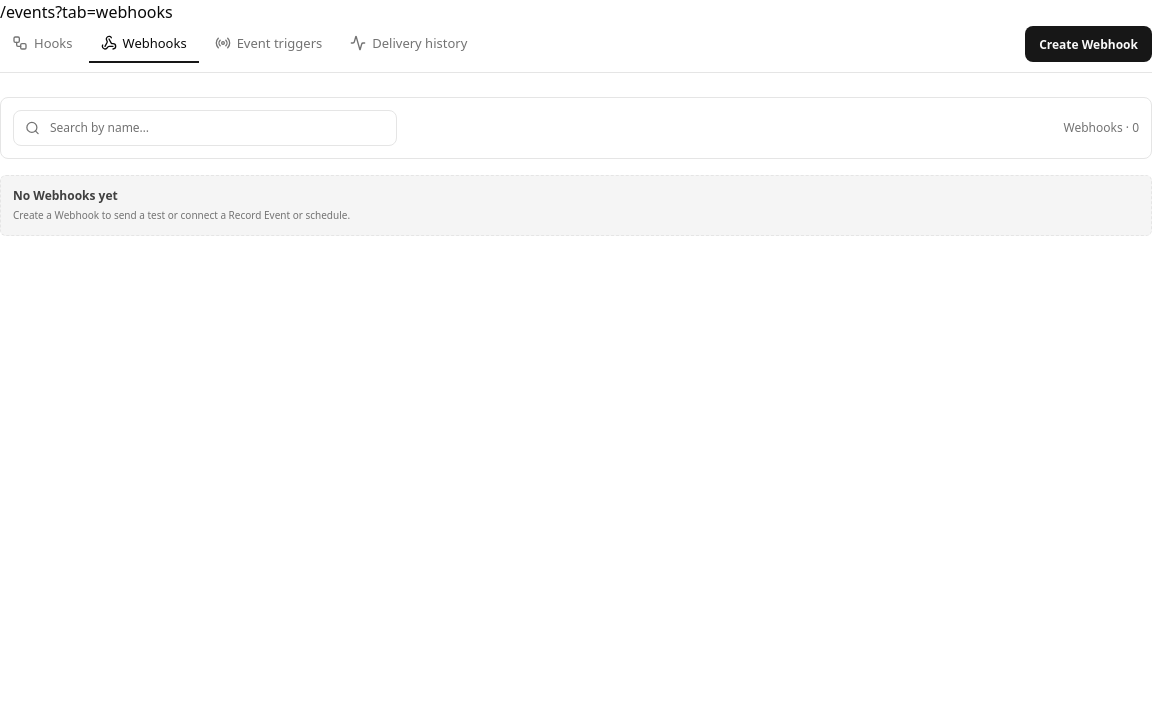
Test: Hooks & Events and Scheduled jobs Admin surfaces › shows field-level validation without displaying a raw URL or server message
Click the button "Create Webhook" at (1089, 44), box [1025,26,1151,62]
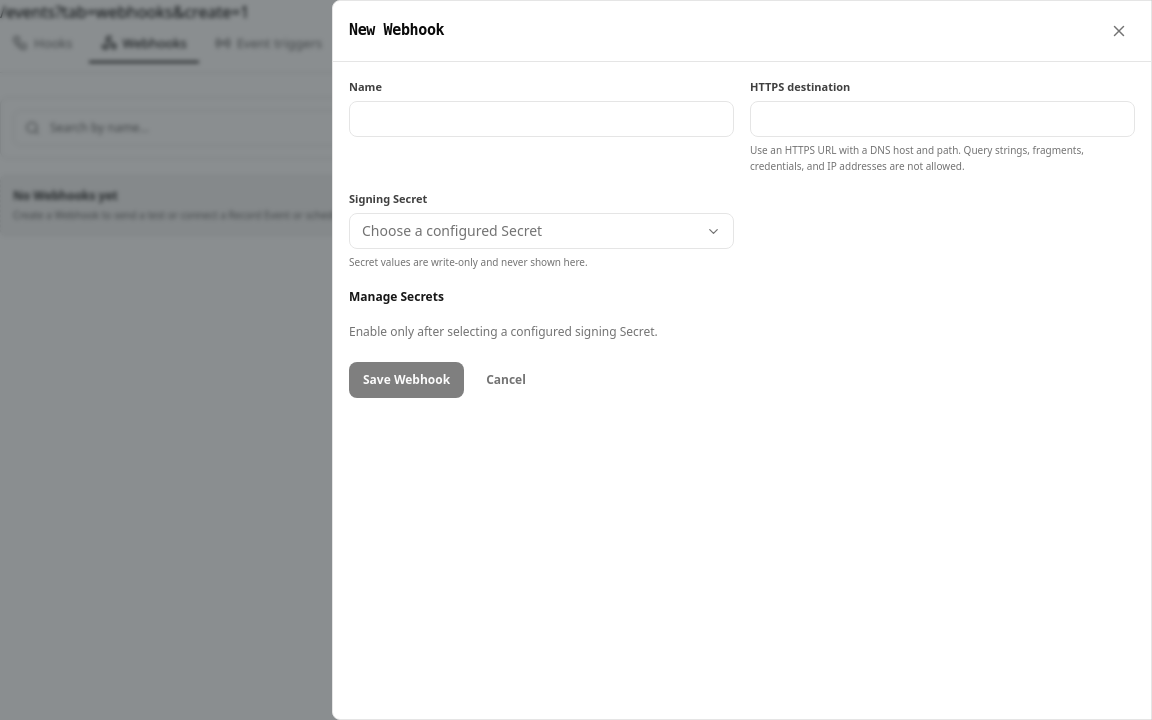
Type "Receiver" into the field labelled "Name" at (542, 119), box [349,101,734,137]
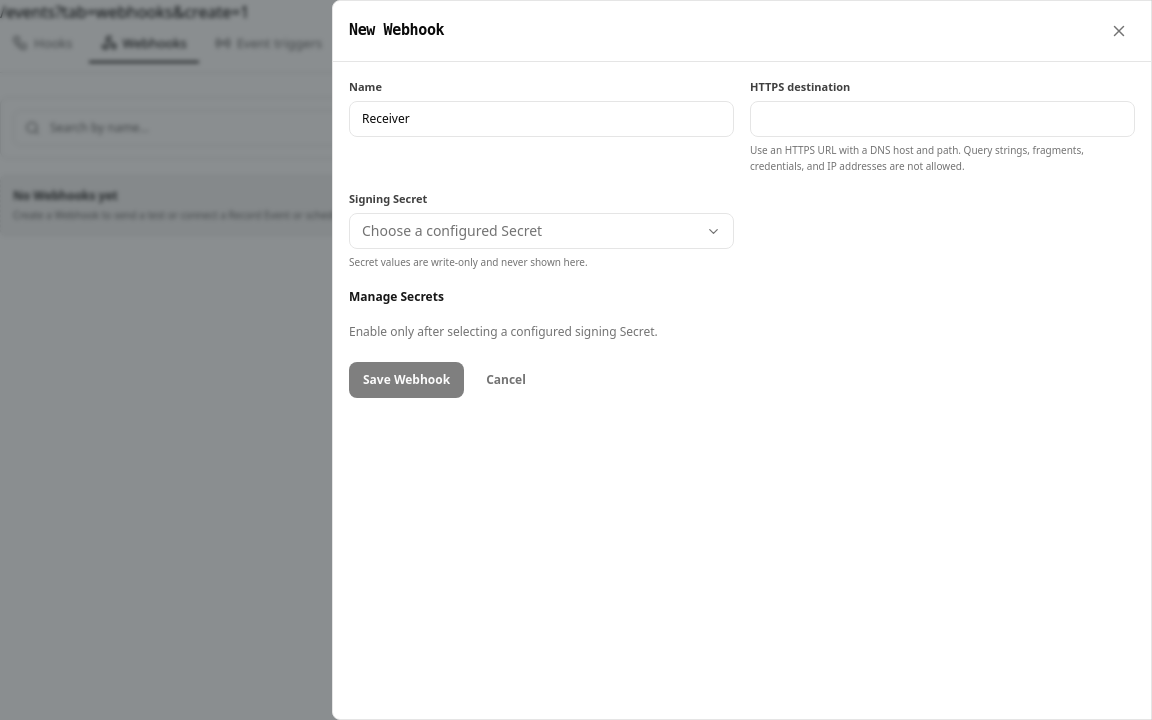
Type "https://private.example.test/path?secret=never-show-this" into the field labelled "HTTPS destination" at (942, 119), box [750,101,1135,137]
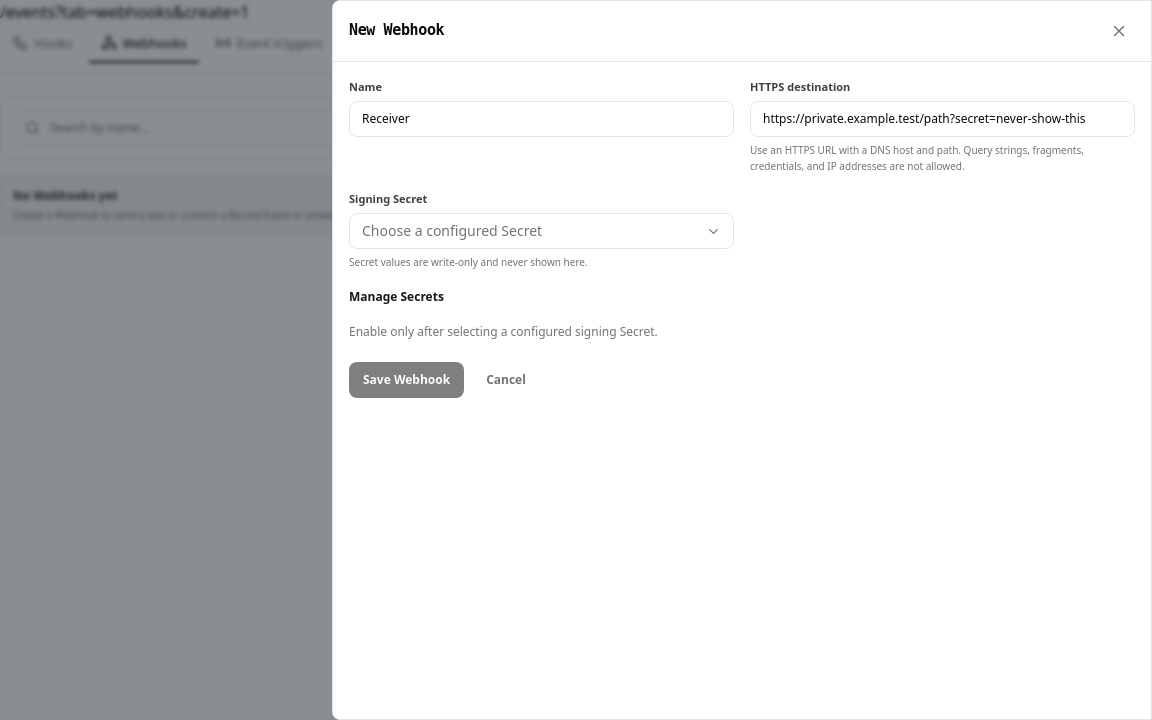
Click the dropdown named "Signing Secret" at (542, 231), box [349,213,734,249]
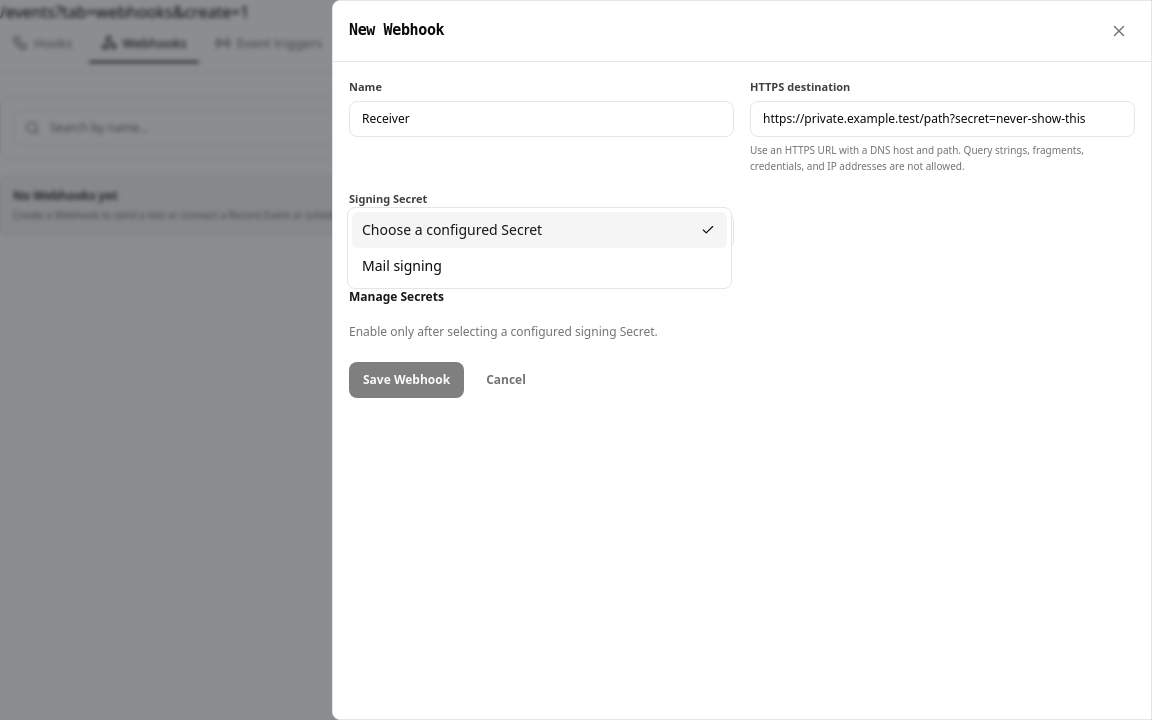
Click the option "Mail signing" at (402, 266), box [362,256,442,275]
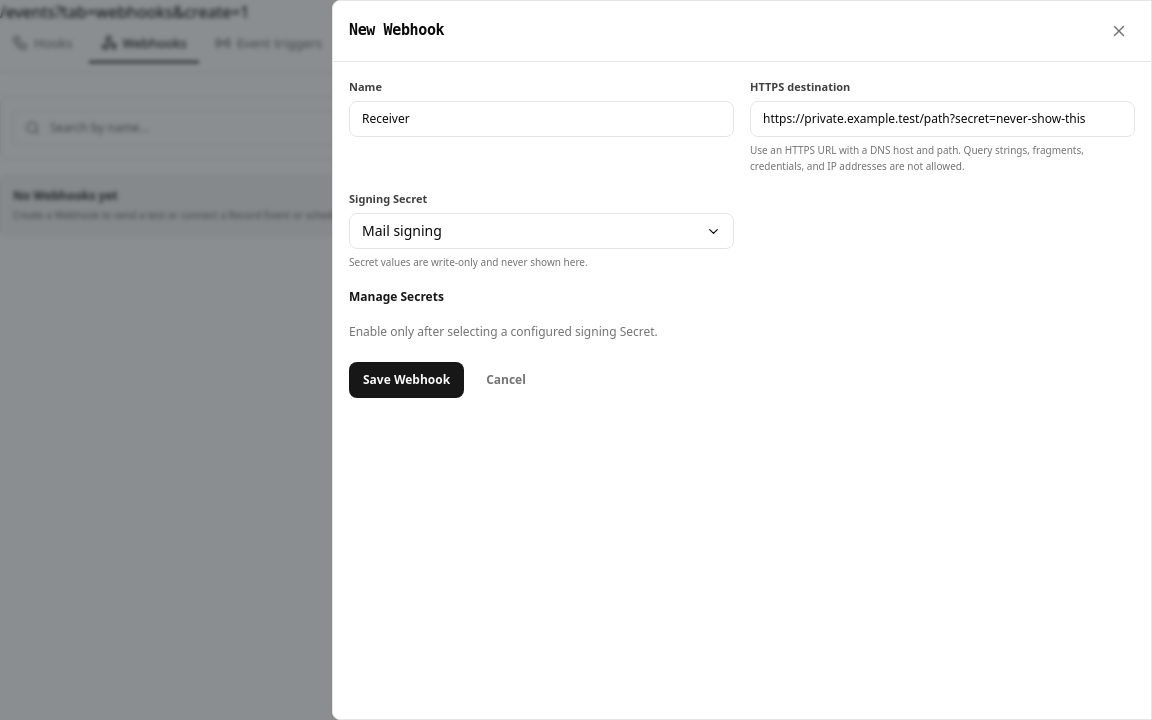
Click the button "Save Webhook" at (407, 380), box [349,362,464,398]
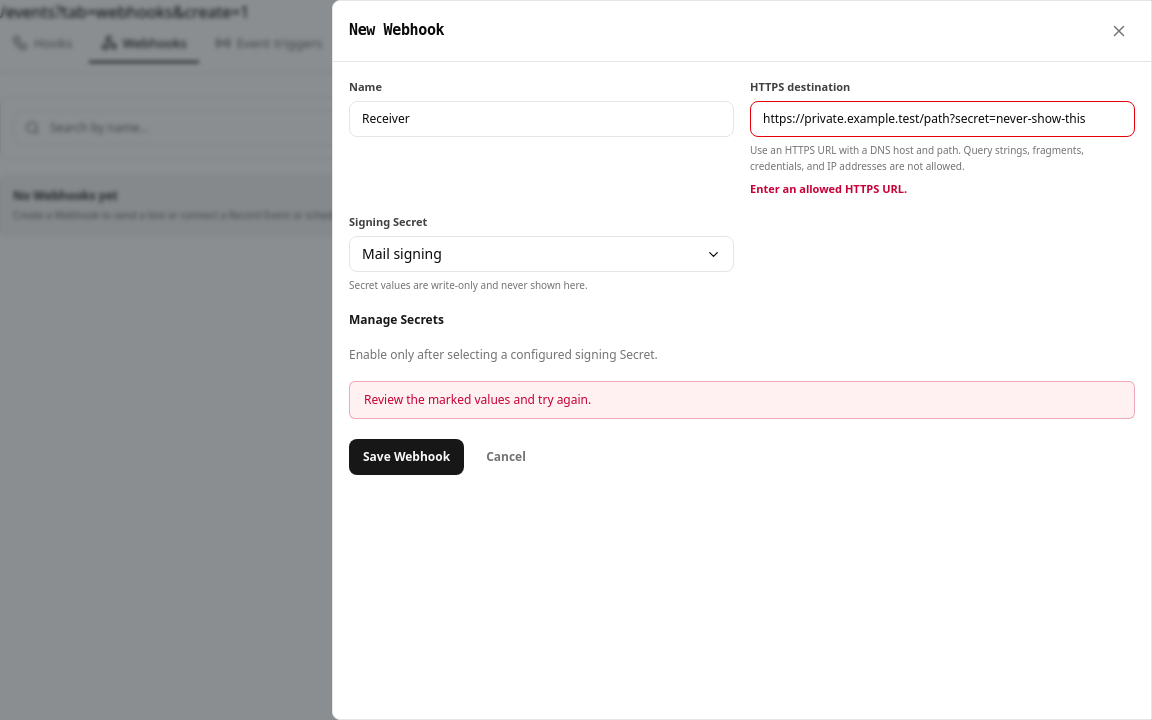
Now the text "Enter an allowed HTTPS URL." is shown, box [750,181,907,196]
